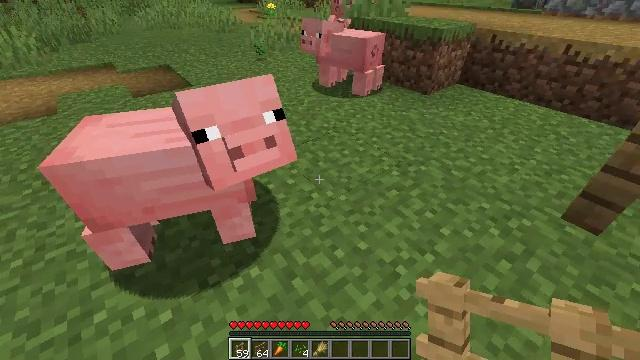pig: (48, 83, 296, 265), (300, 17, 383, 94)
